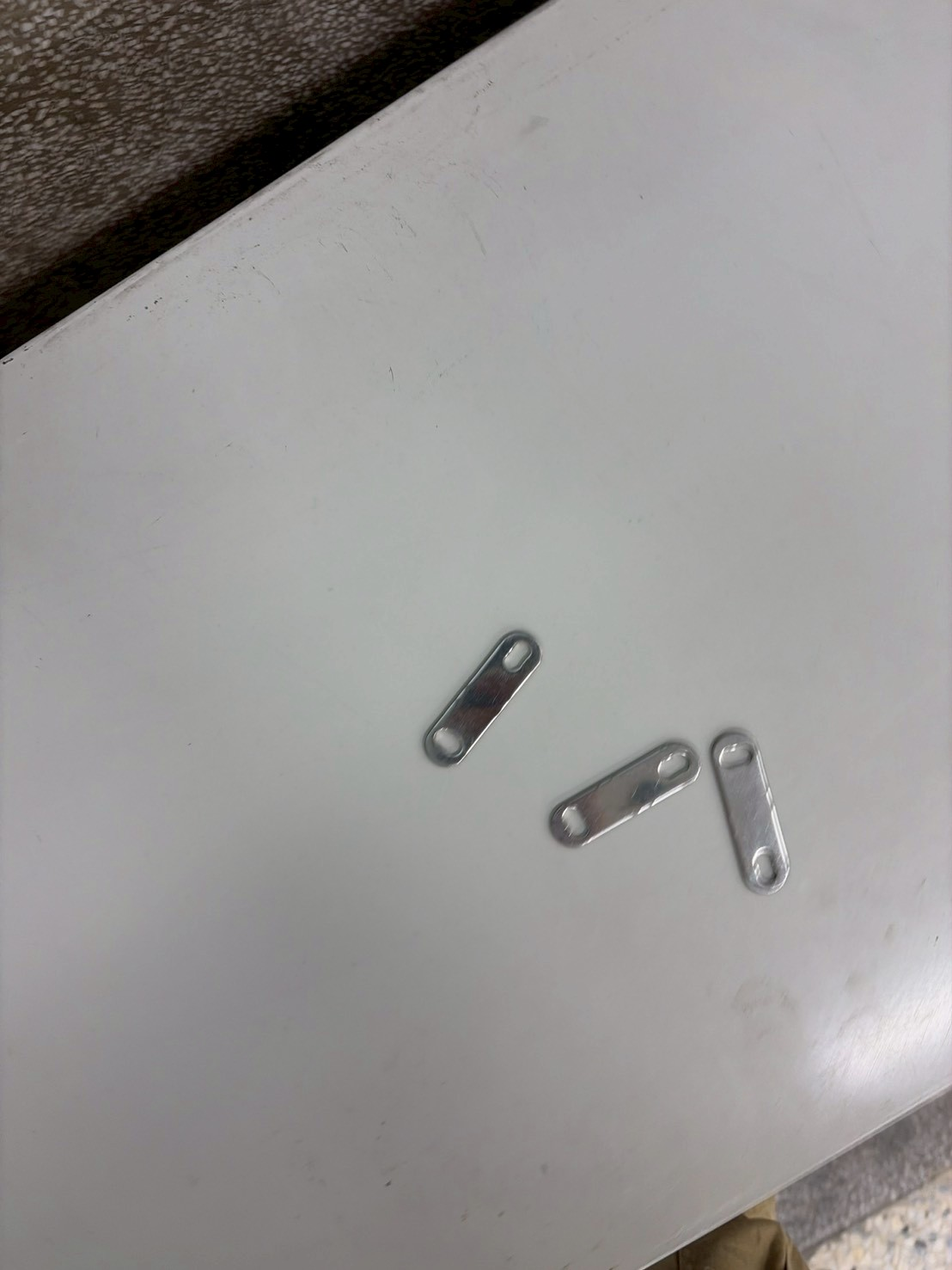Fe: (704, 736, 753, 907), (516, 619, 566, 785), (683, 731, 733, 896)
